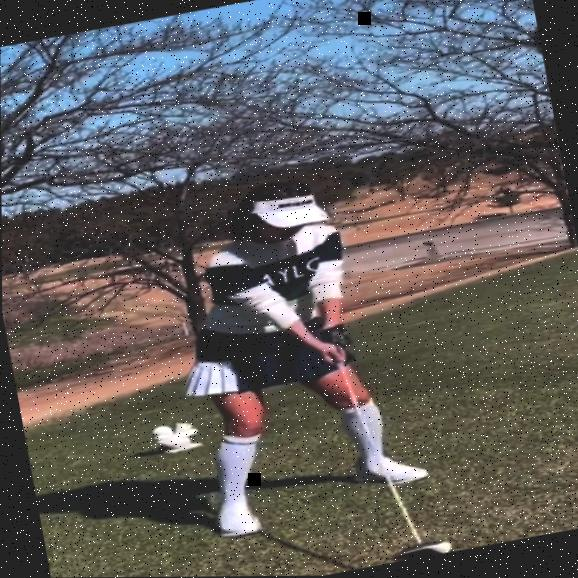ClubHead: (389, 538, 447, 562)
